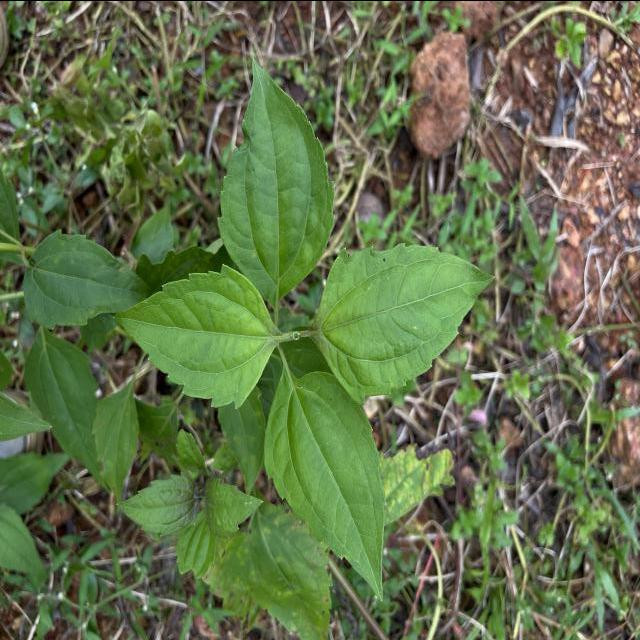Chromolaena odorata: (213, 53, 339, 310), (312, 240, 499, 408), (261, 362, 389, 604), (109, 258, 284, 412)
